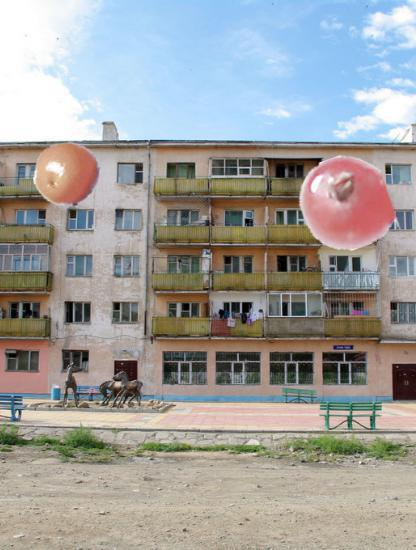Redcurrant: (298, 156, 393, 251)
Tangelo: (33, 141, 101, 209)
